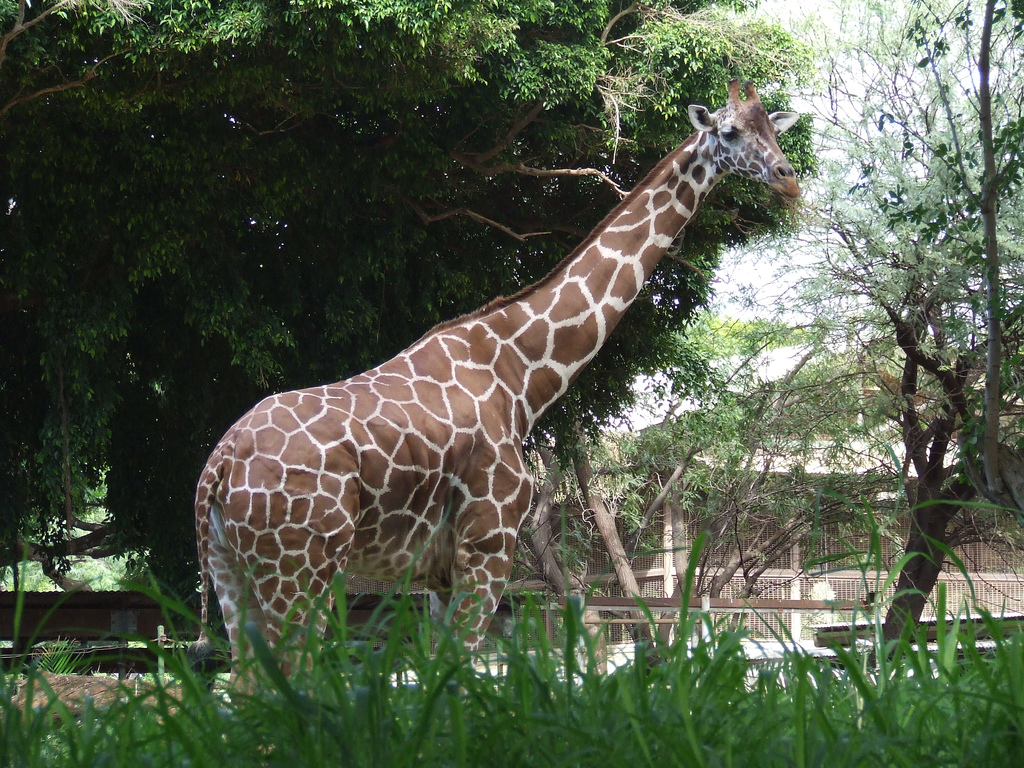giraffe: (190, 76, 832, 712)
